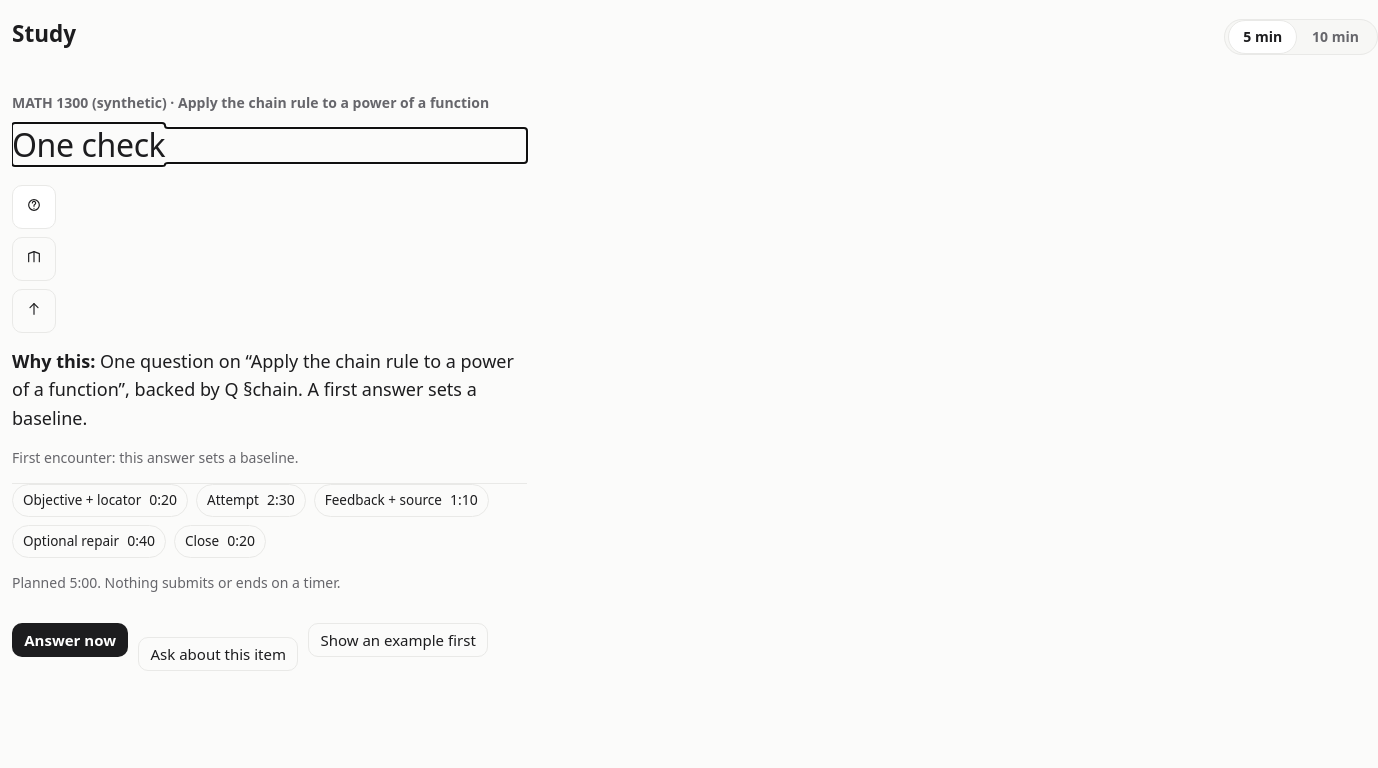
Test: StudyView journey › offers, answers, and shows honest feedback without leaking the key beforehand
Expected: the text "Why this:" is shown, [12,349,95,373]
Expected: the text "cos" is not shown
Step 1. Click the button "Answer now" → (70, 640), box [12,623,128,657]
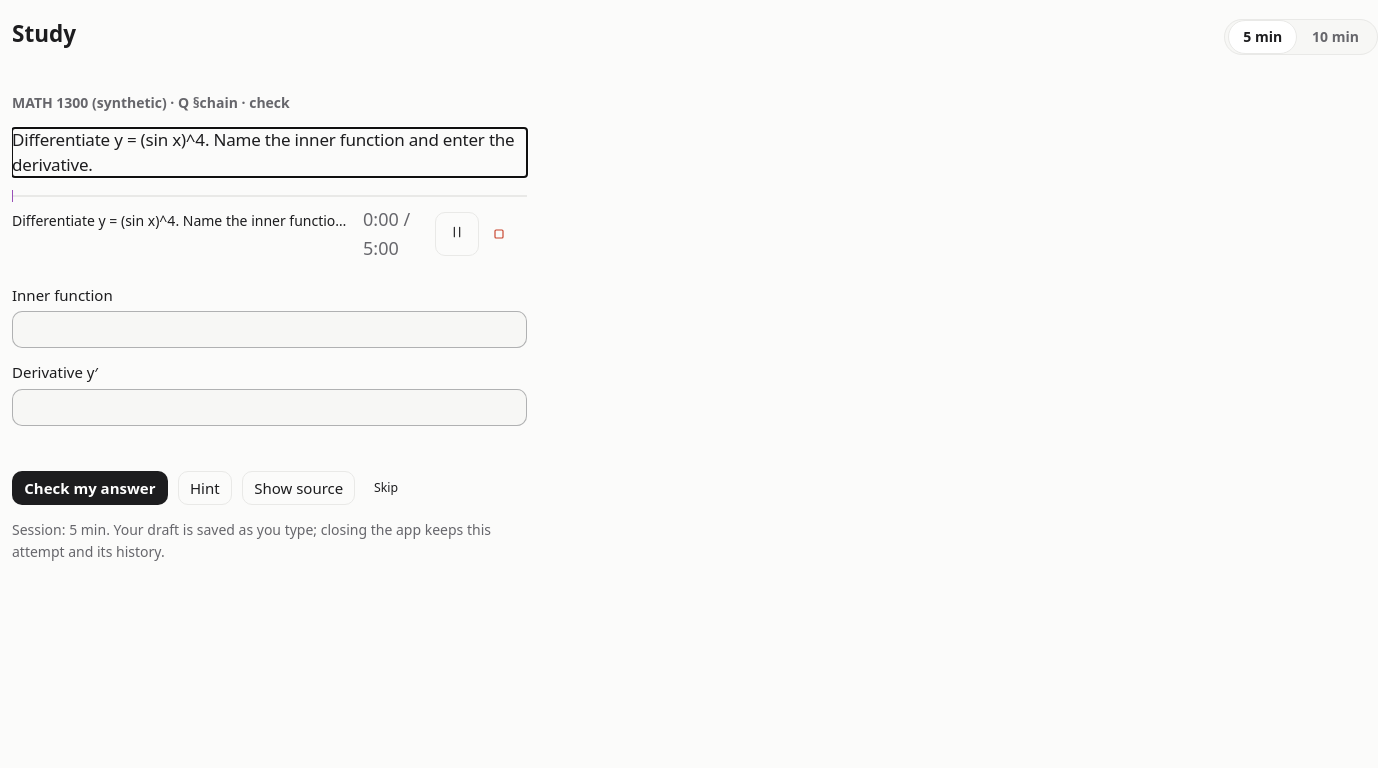
Expected: the text "cos" is not shown
Step 2. Type "sin x" into the field labelled "Inner function" → (269, 330), box [12,311,527,348]
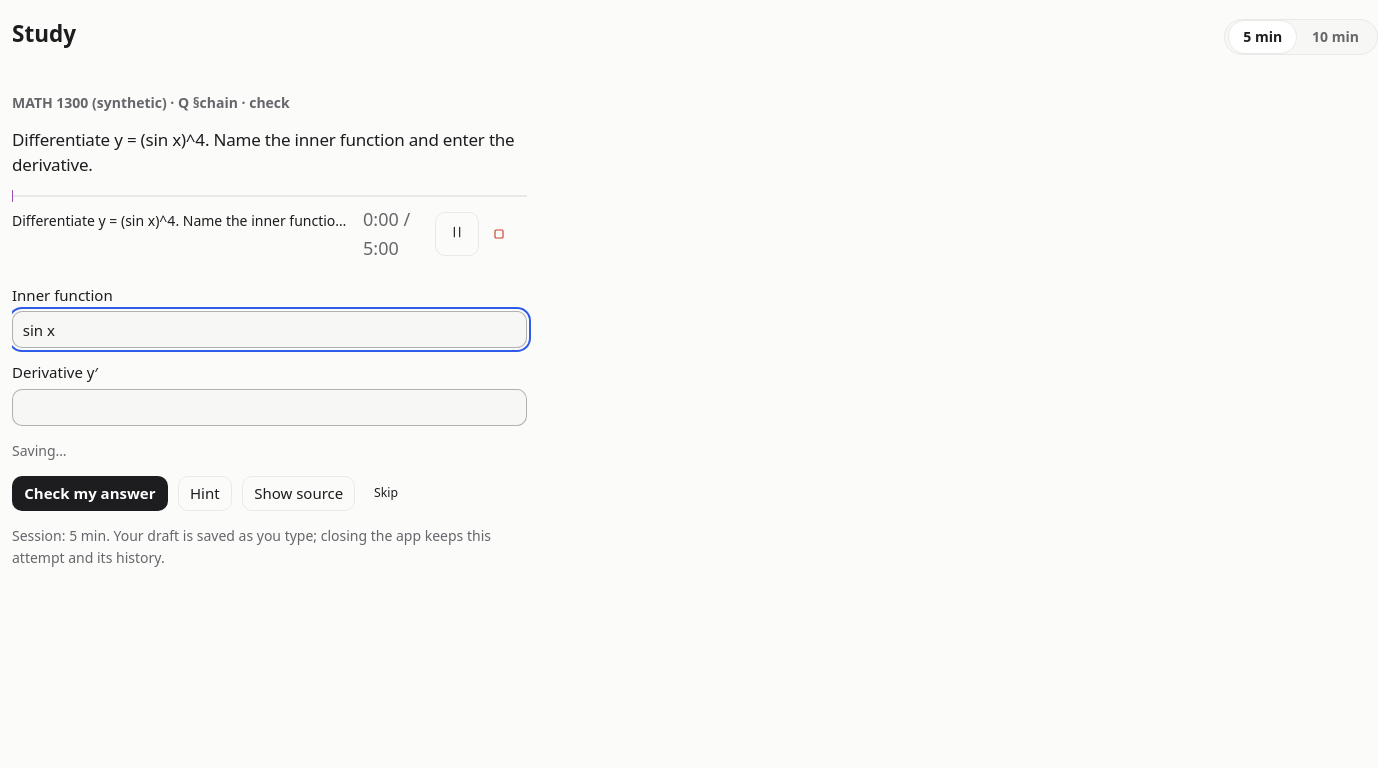
Step 3. Type "4sin^3x" into the field labelled "Derivative y′" → (269, 407), box [12,389,527,426]
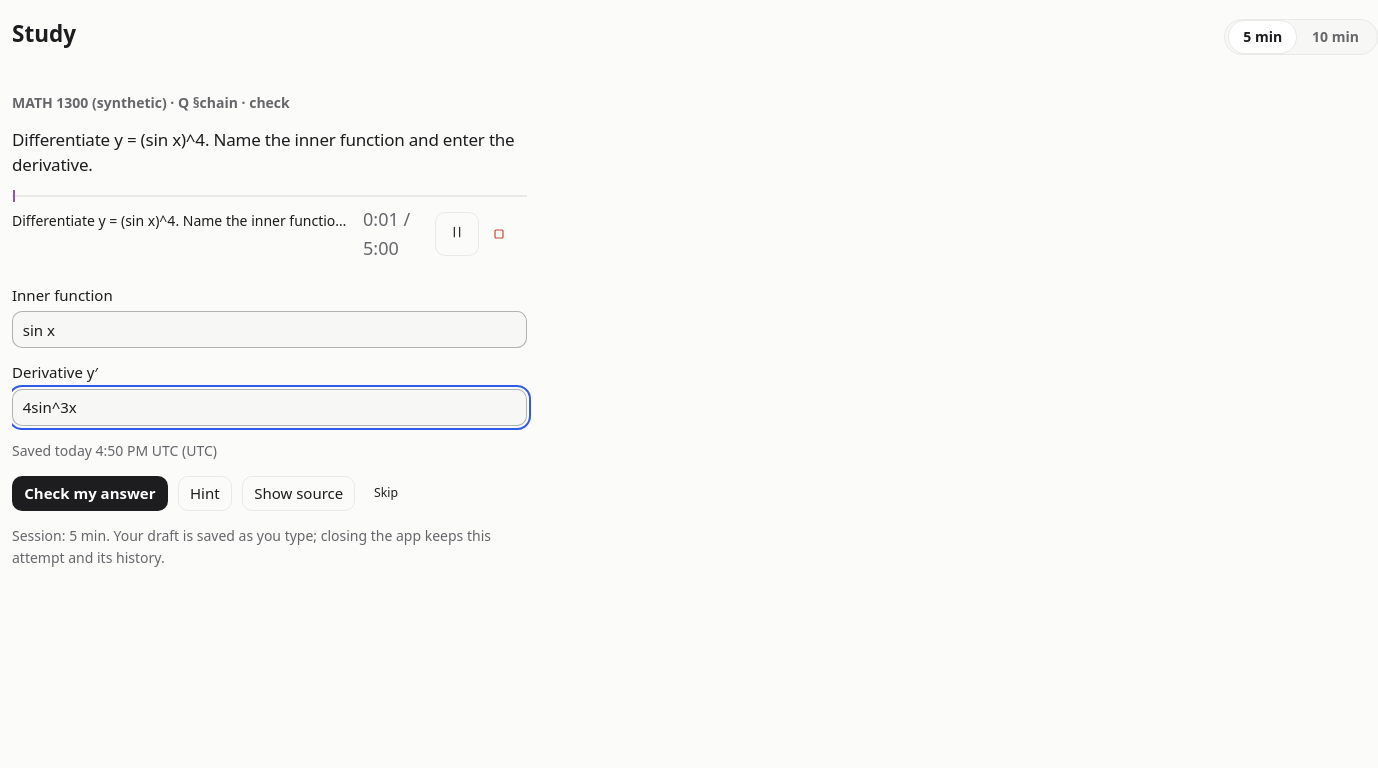
Now the text "Saved today 4:50 PM UTC (UTC)" is shown, box [12,441,217,460]
Step 4. Click the button "Check my answer" → (90, 494), box [12,476,168,511]
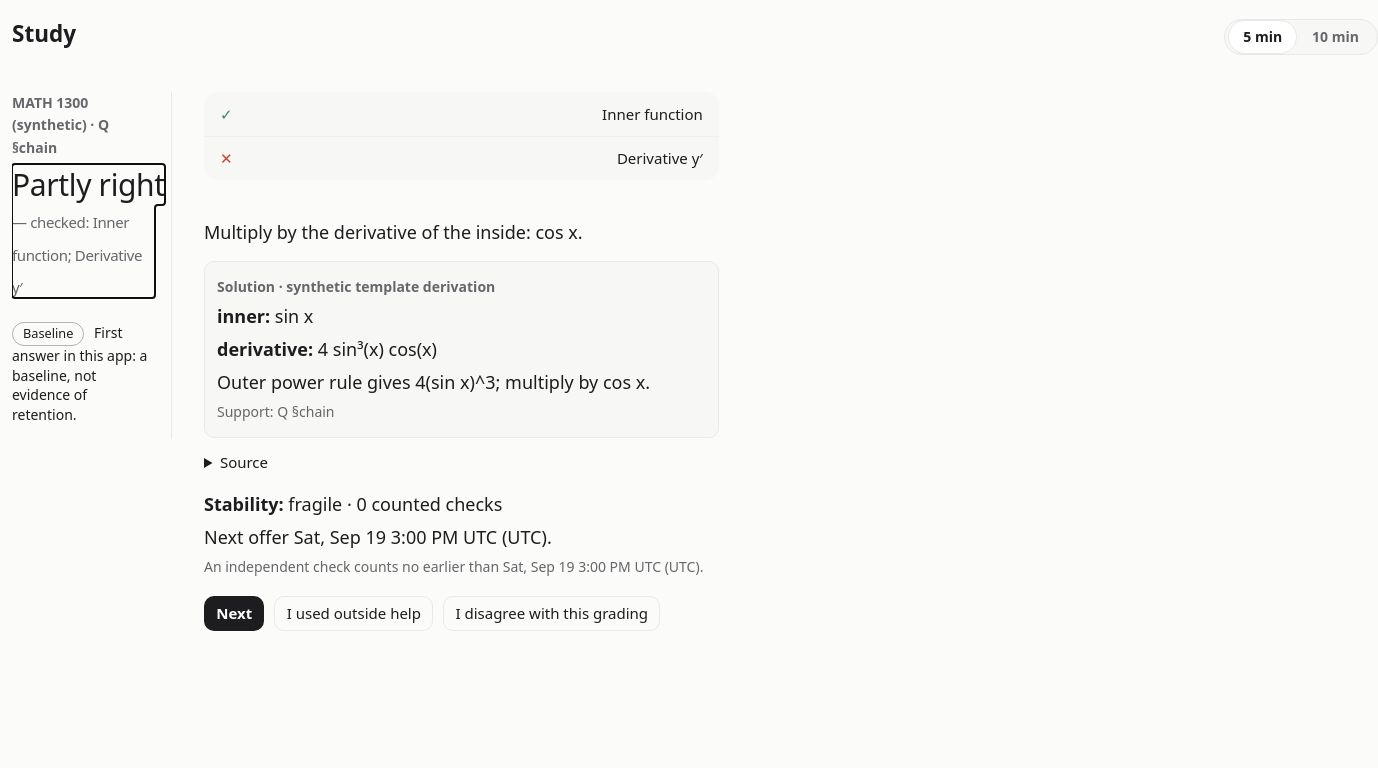
Now the text "Baseline" is shown, box [12,322,84,346]
Now the text "Multiply by the derivative of the inside: cos x." is shown, box [204,220,583,244]
Now the text "Solution · synthetic template derivation" is shown, box [217,277,495,296]
